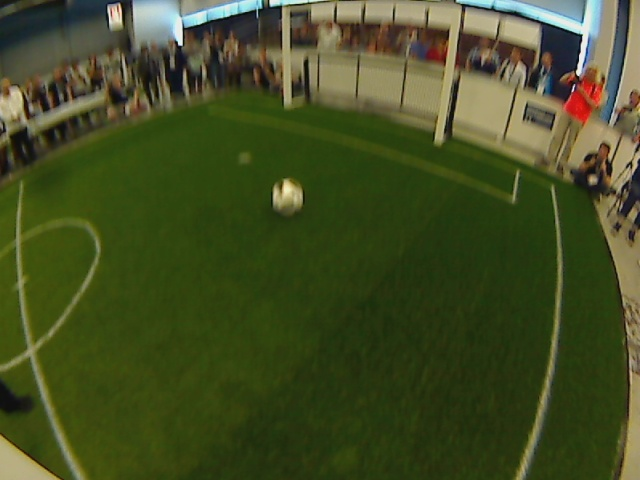ball: (271, 176, 305, 215)
